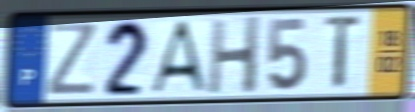2: (99, 15, 154, 102)
5: (267, 15, 310, 93)
A: (147, 17, 210, 96)
H: (205, 13, 264, 97)
T: (322, 12, 365, 94)
Z: (44, 21, 100, 98)
